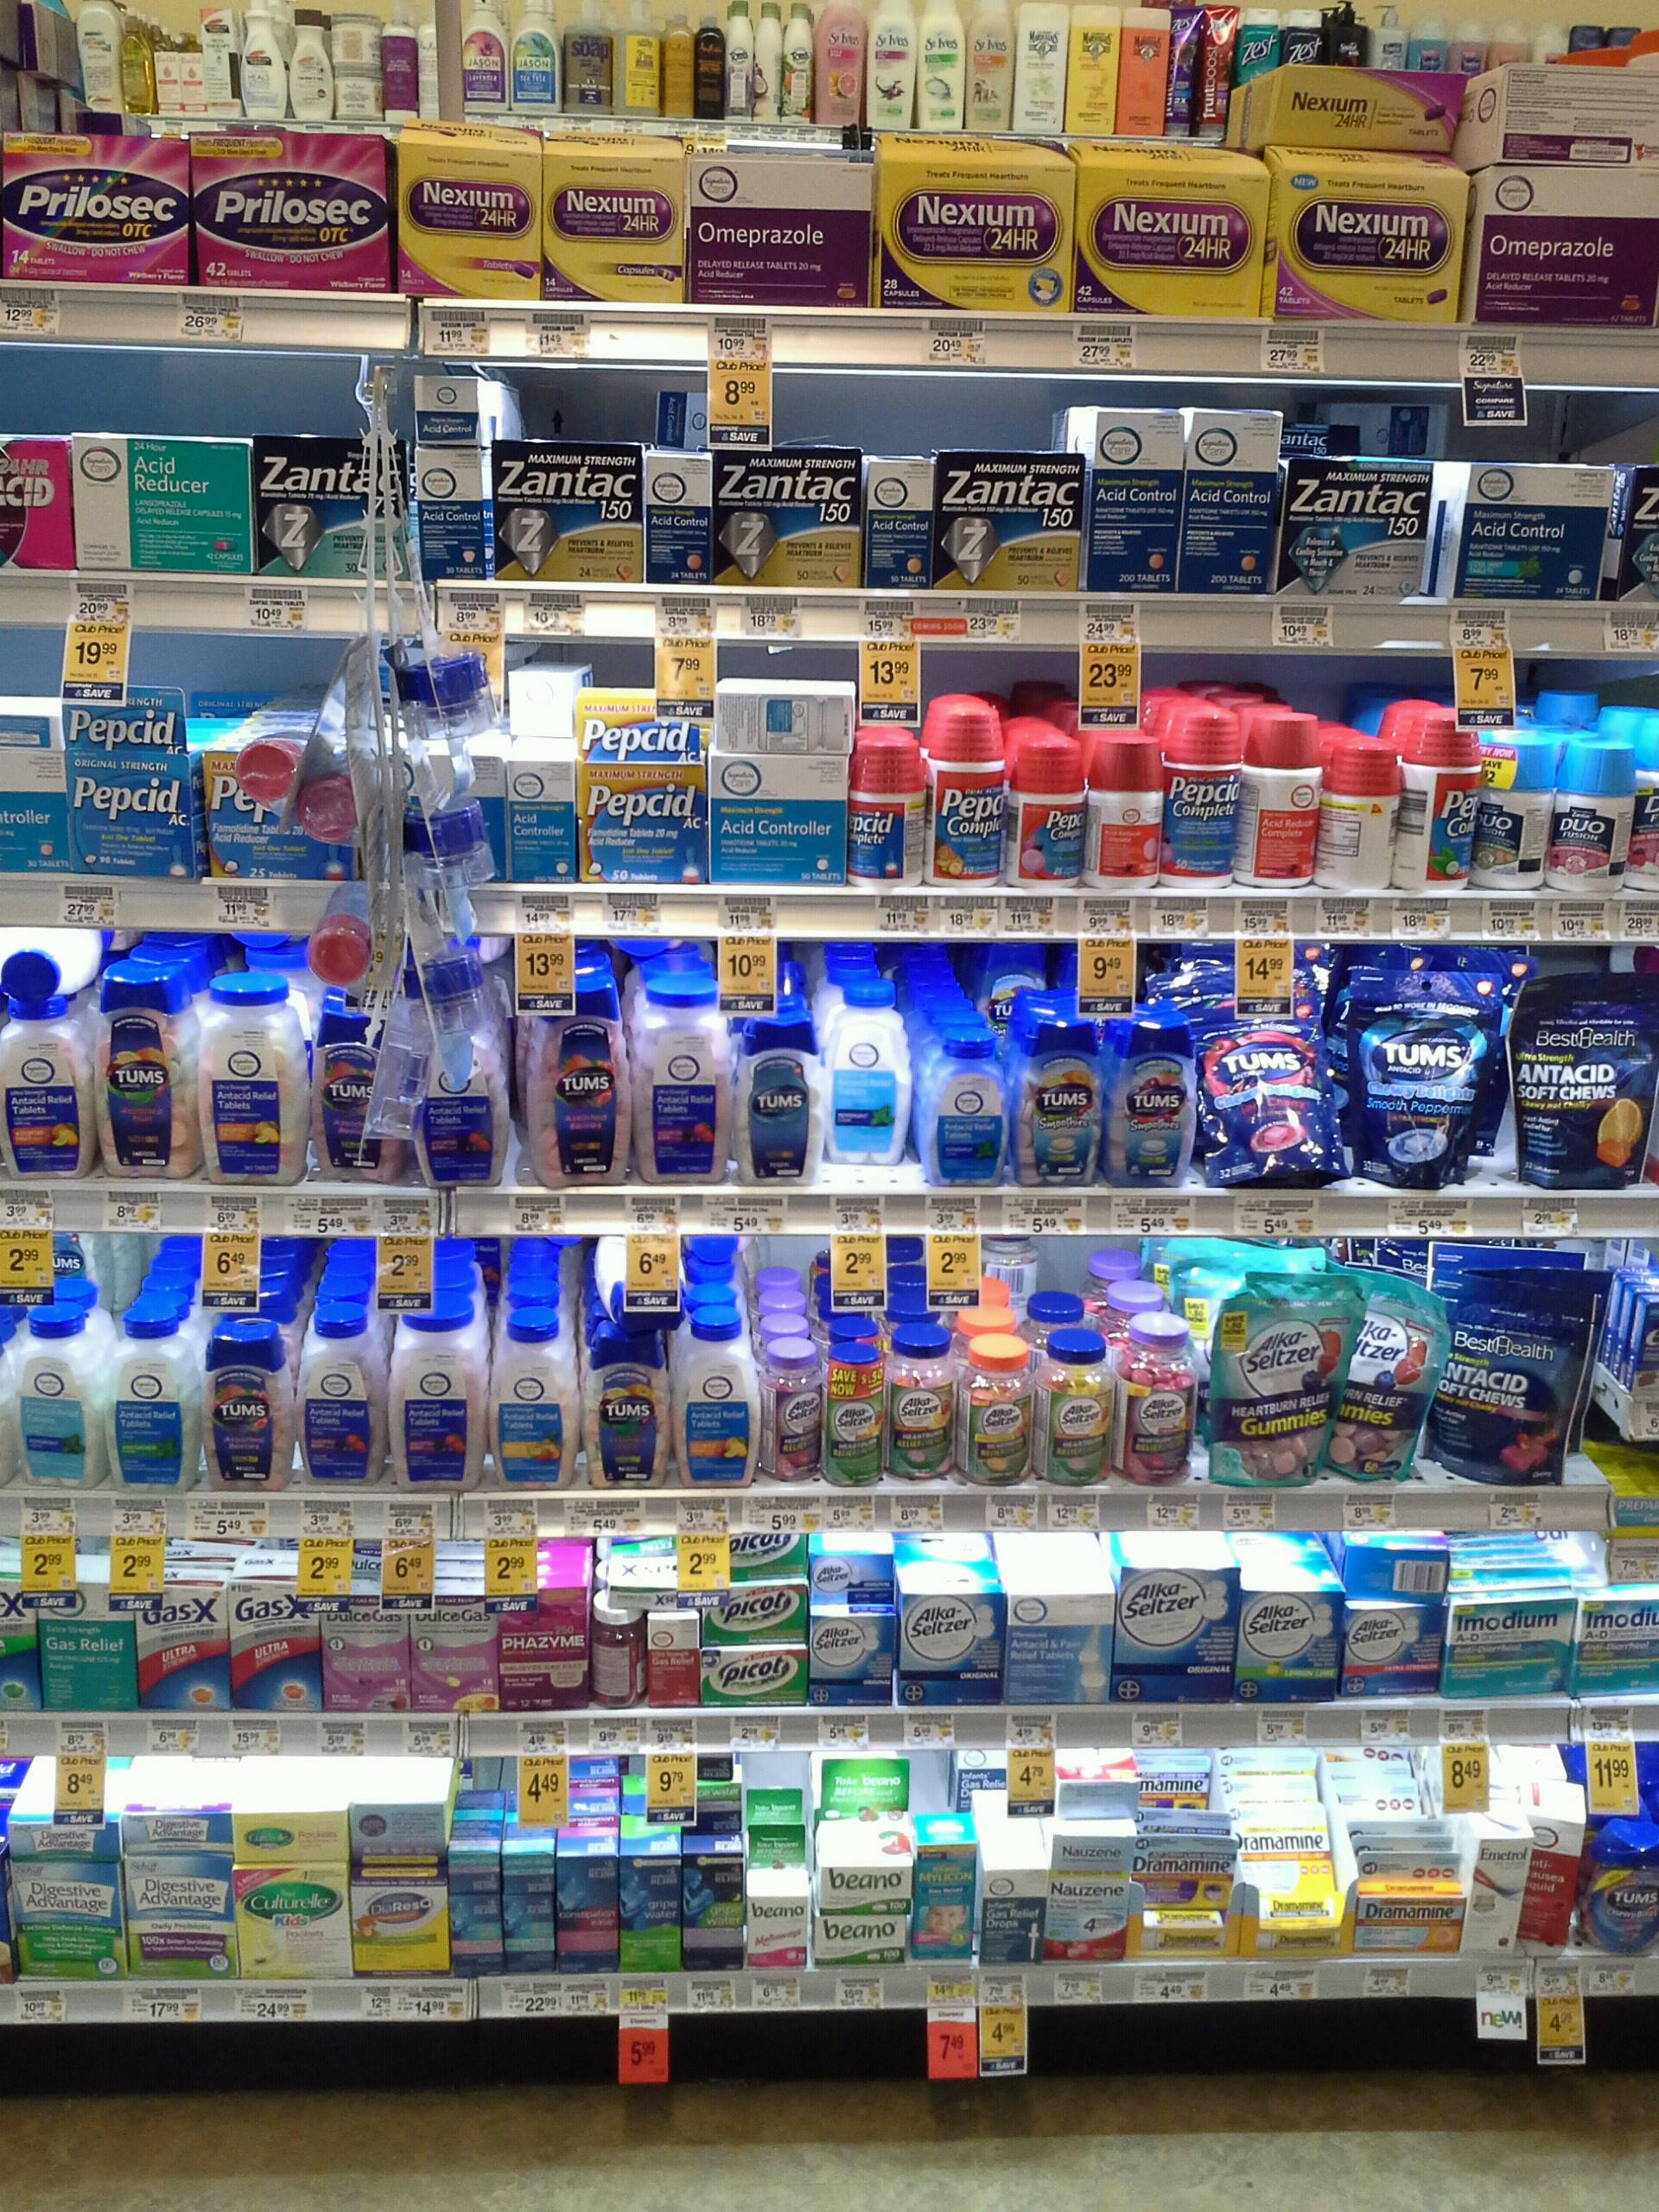Misplacement: (817, 946, 927, 1191)
